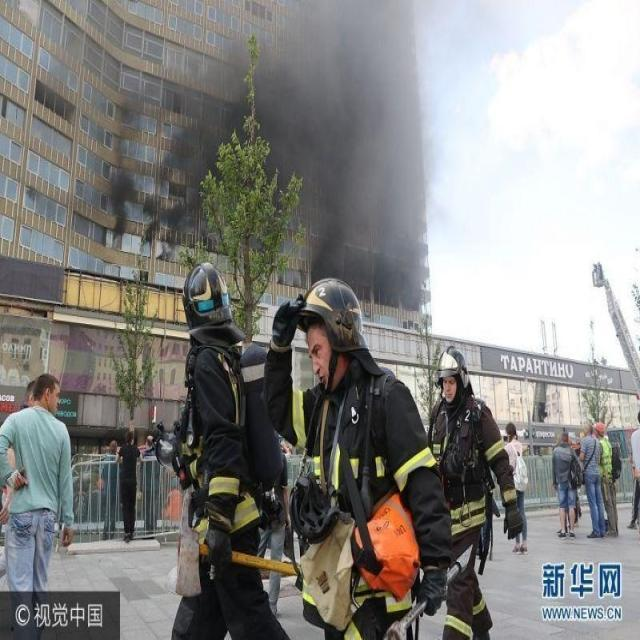Smoke: (111, 1, 442, 312)
